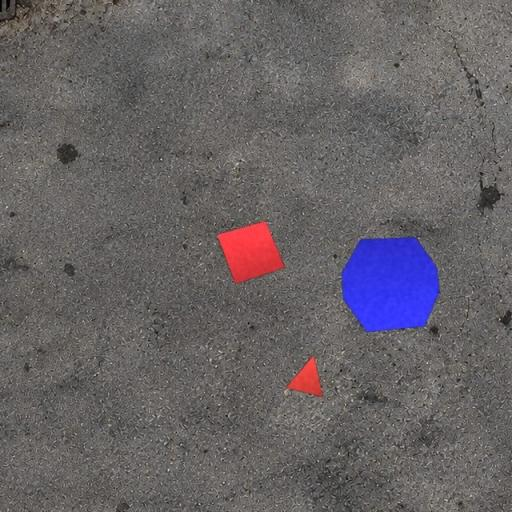RED_SQUARE: (216, 220, 286, 285)
